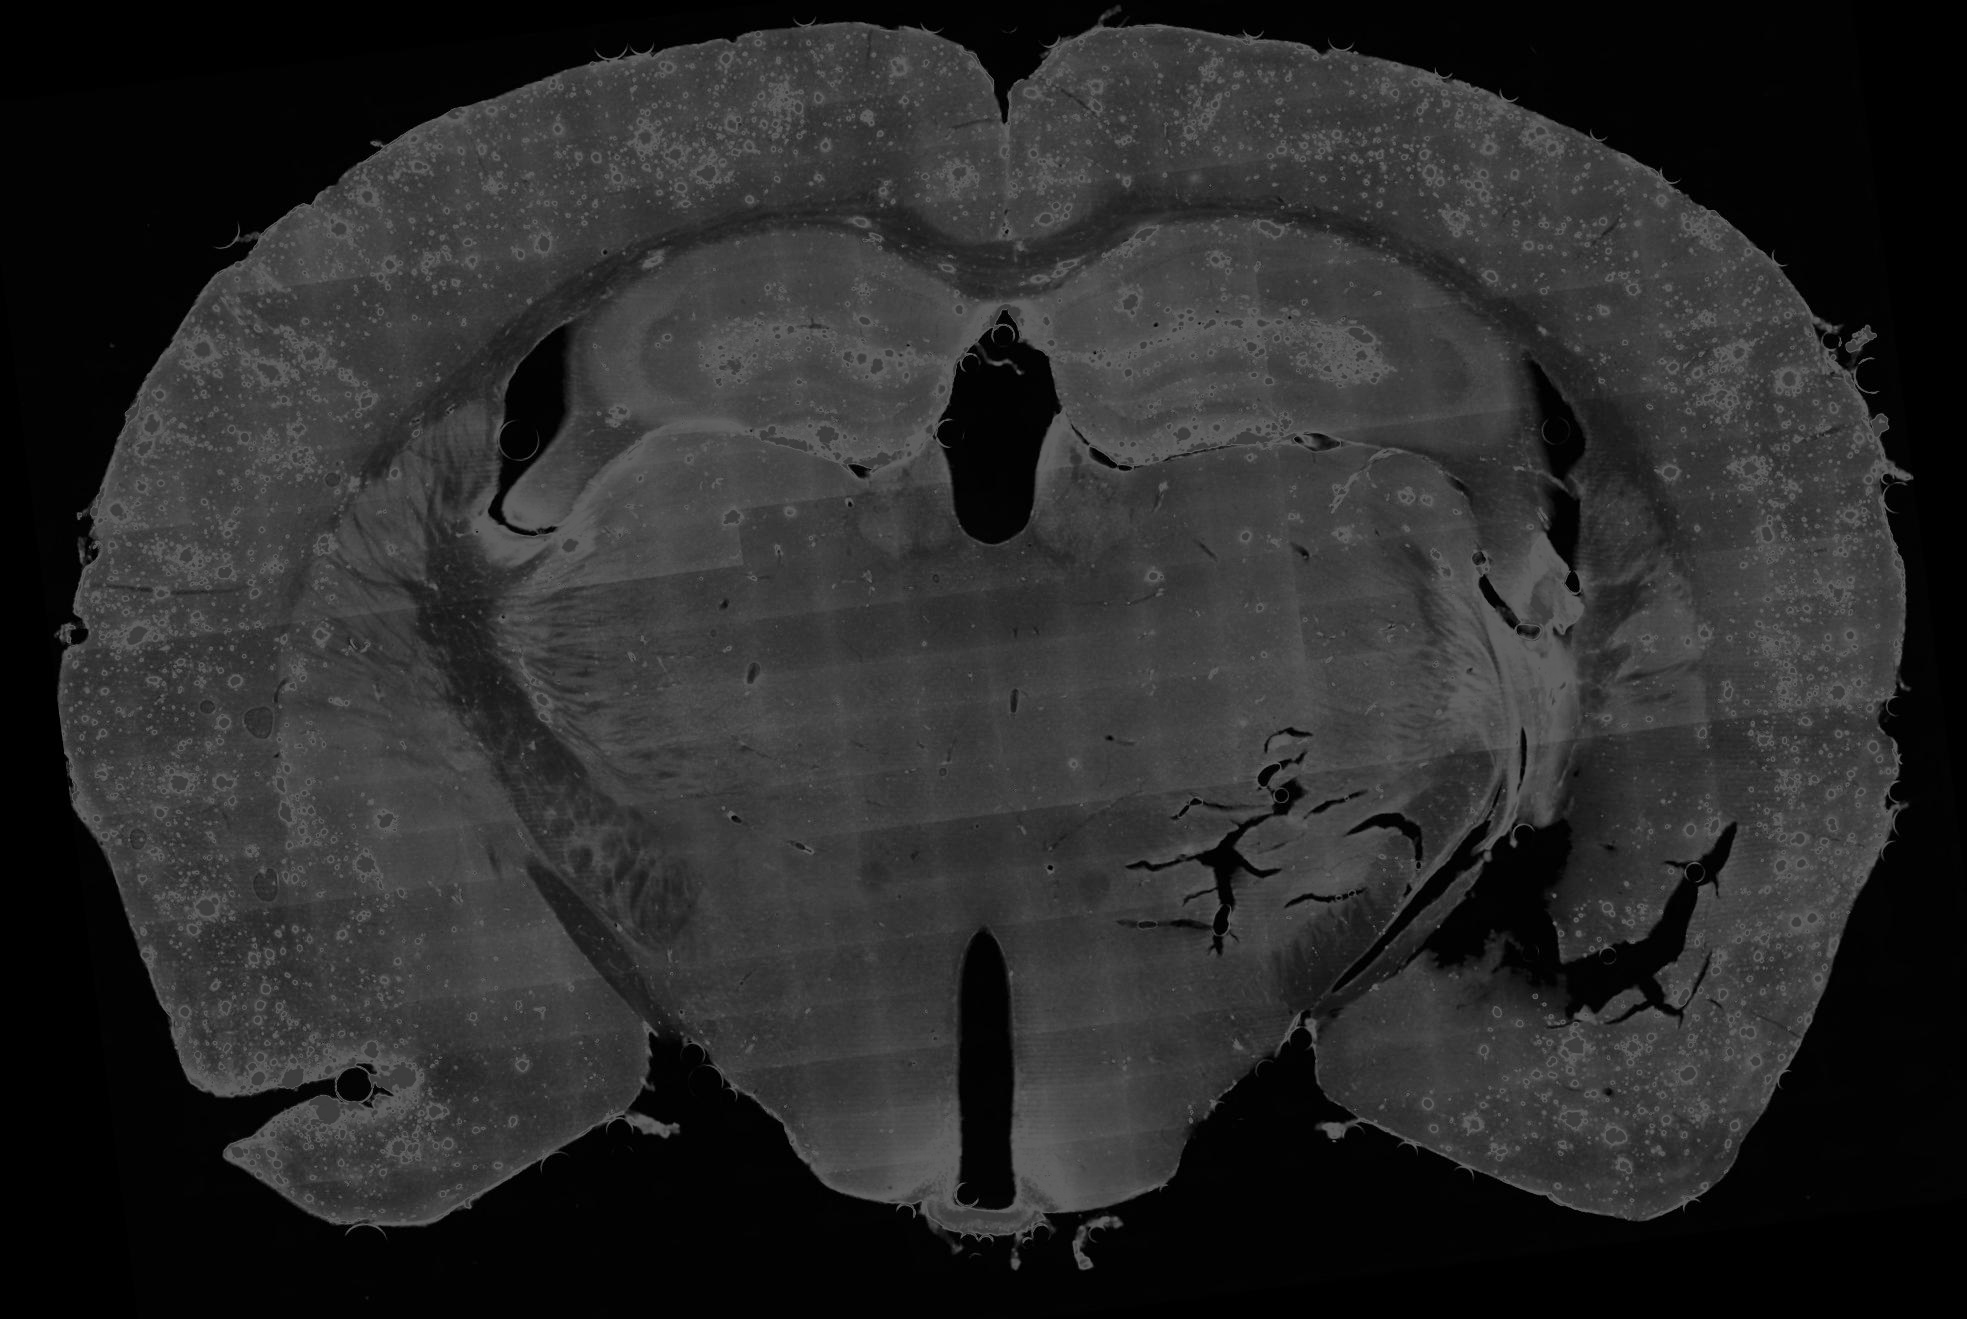Cerebral nuclei: (278, 392, 496, 938), (1575, 453, 1717, 869)
Hippocampal formation: (1007, 218, 1524, 468), (585, 230, 1004, 470)
Hypothalamus: (983, 757, 1443, 1235), (593, 765, 985, 1237)
Retrosplenial area: (889, 43, 1009, 244), (1006, 35, 1109, 243)
Somatosensory area: (82, 29, 789, 615), (1281, 49, 1886, 556)
Thalamus: (983, 411, 1508, 894), (487, 420, 992, 888)
